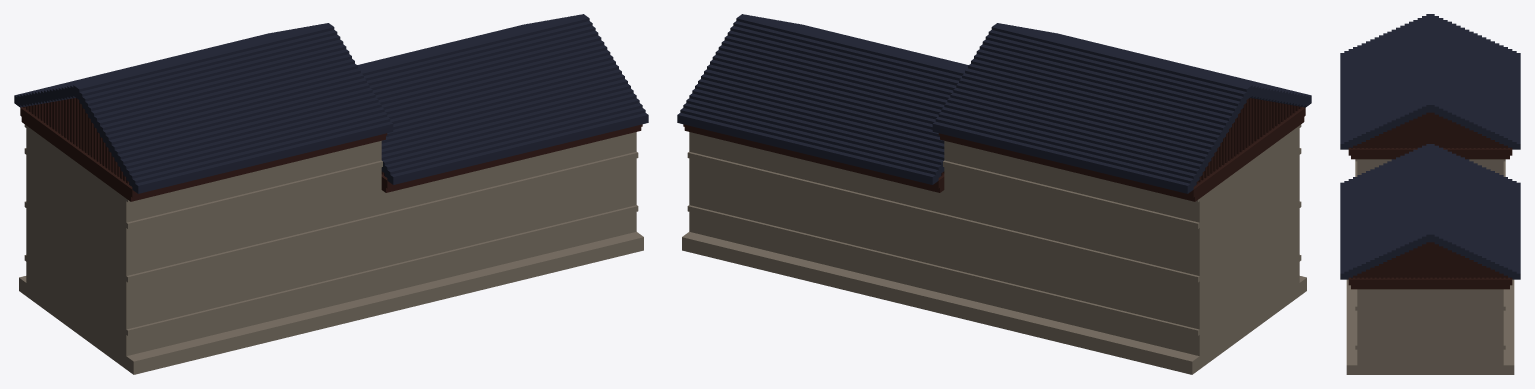
Rendered from Korean castle_wall_02.FBX.
3 views of the same model, side by side, from view 1: azimuth 30°, elevation 25°; view 2: azimuth 150°, elevation 25°; view 3: azimuth 270°, elevation 25° (orthographic). The views are drawn at different scales.
Visible parts, largest first — view 1: Voxel_Korean_traditional castle-7; view 2: Voxel_Korean_traditional castle-7; view 3: Voxel_Korean_traditional castle-7.
Boxes of the visible parts, <box> form: Voxel_Korean_traditional castle-7: <box>14,14,648,374</box>; Voxel_Korean_traditional castle-7: <box>677,14,1311,374</box>; Voxel_Korean_traditional castle-7: <box>1340,14,1520,374</box>.
Size of the model in its own units: 400 by 184 by 168.
Materials: 1 (1 with a texture image).
